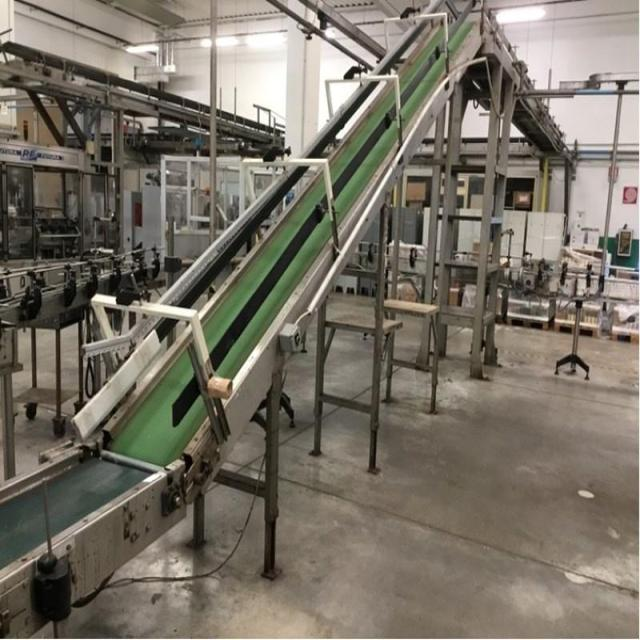conveyor: (0, 0, 490, 639)
